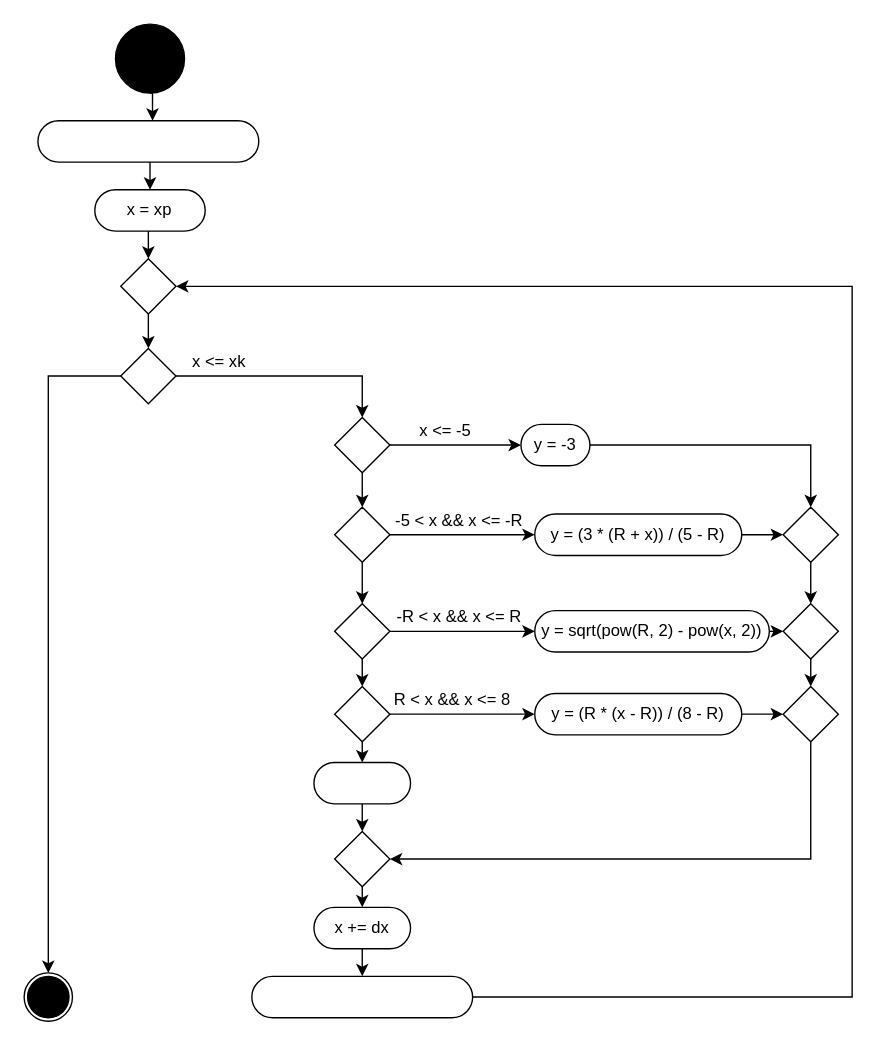
This 887x1046 diagram has some shape labels left out. Here are the shapes that lost their labels. From the top down, the box of each, then its label:
(37, 119, 259, 162): ввід xp, xk, dx, R, x
(313, 761, 411, 804): y = R
(250, 975, 473, 1018): вивід x, y
